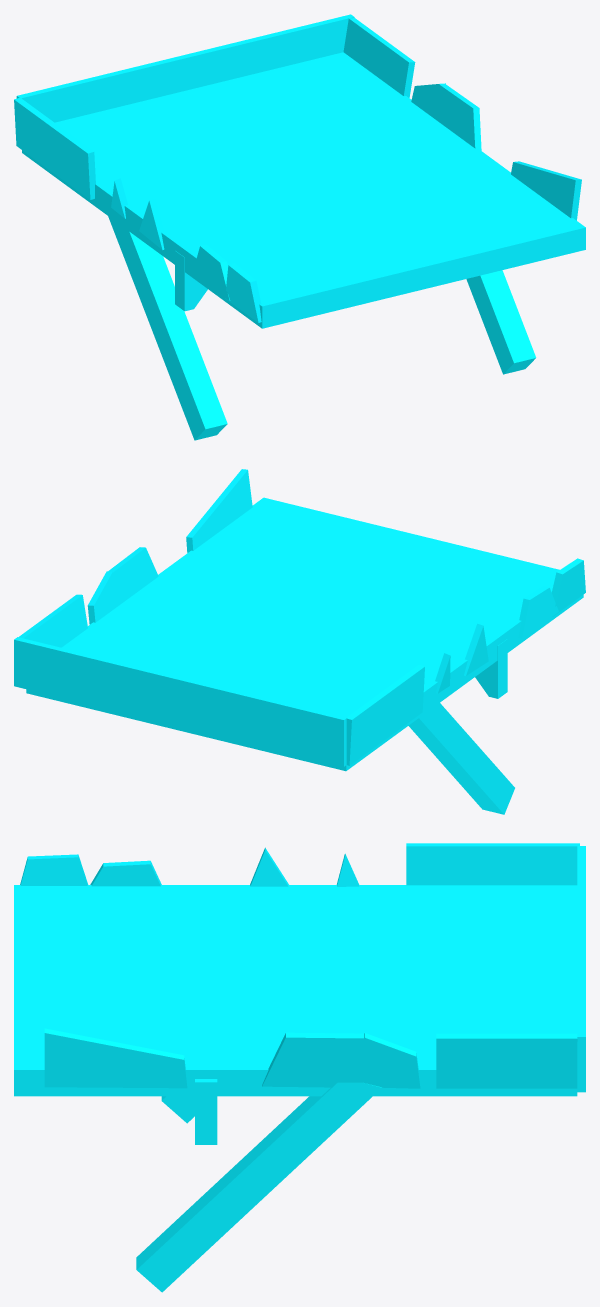
Rendered from SM_Bld_Bridge_Platform_01_Collision.fbx.
The picture shows the model from 3 angles, top to bottom: view 1: azimuth 30°, elevation 25°; view 2: azimuth 150°, elevation 25°; view 3: azimuth 270°, elevation 25°; orthographic projection. The views are drawn at different scales.
Visible parts, largest first — view 1: SM_Bld_Bridge_Platform_01_Collision; view 2: SM_Bld_Bridge_Platform_01_Collision; view 3: SM_Bld_Bridge_Platform_01_Collision.
Part boxes in pixels (x1,y1,x2,y2): SM_Bld_Bridge_Platform_01_Collision: [14, 14, 585, 440]; SM_Bld_Bridge_Platform_01_Collision: [14, 469, 585, 814]; SM_Bld_Bridge_Platform_01_Collision: [14, 843, 585, 1292].
Size of the model in its own units: 1875 by 1194 by 2329.
